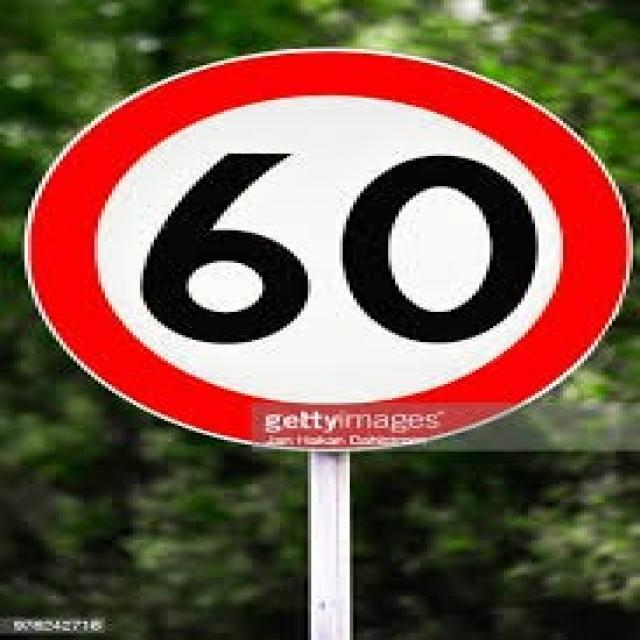speed_limit_60: (31, 39, 626, 461)
